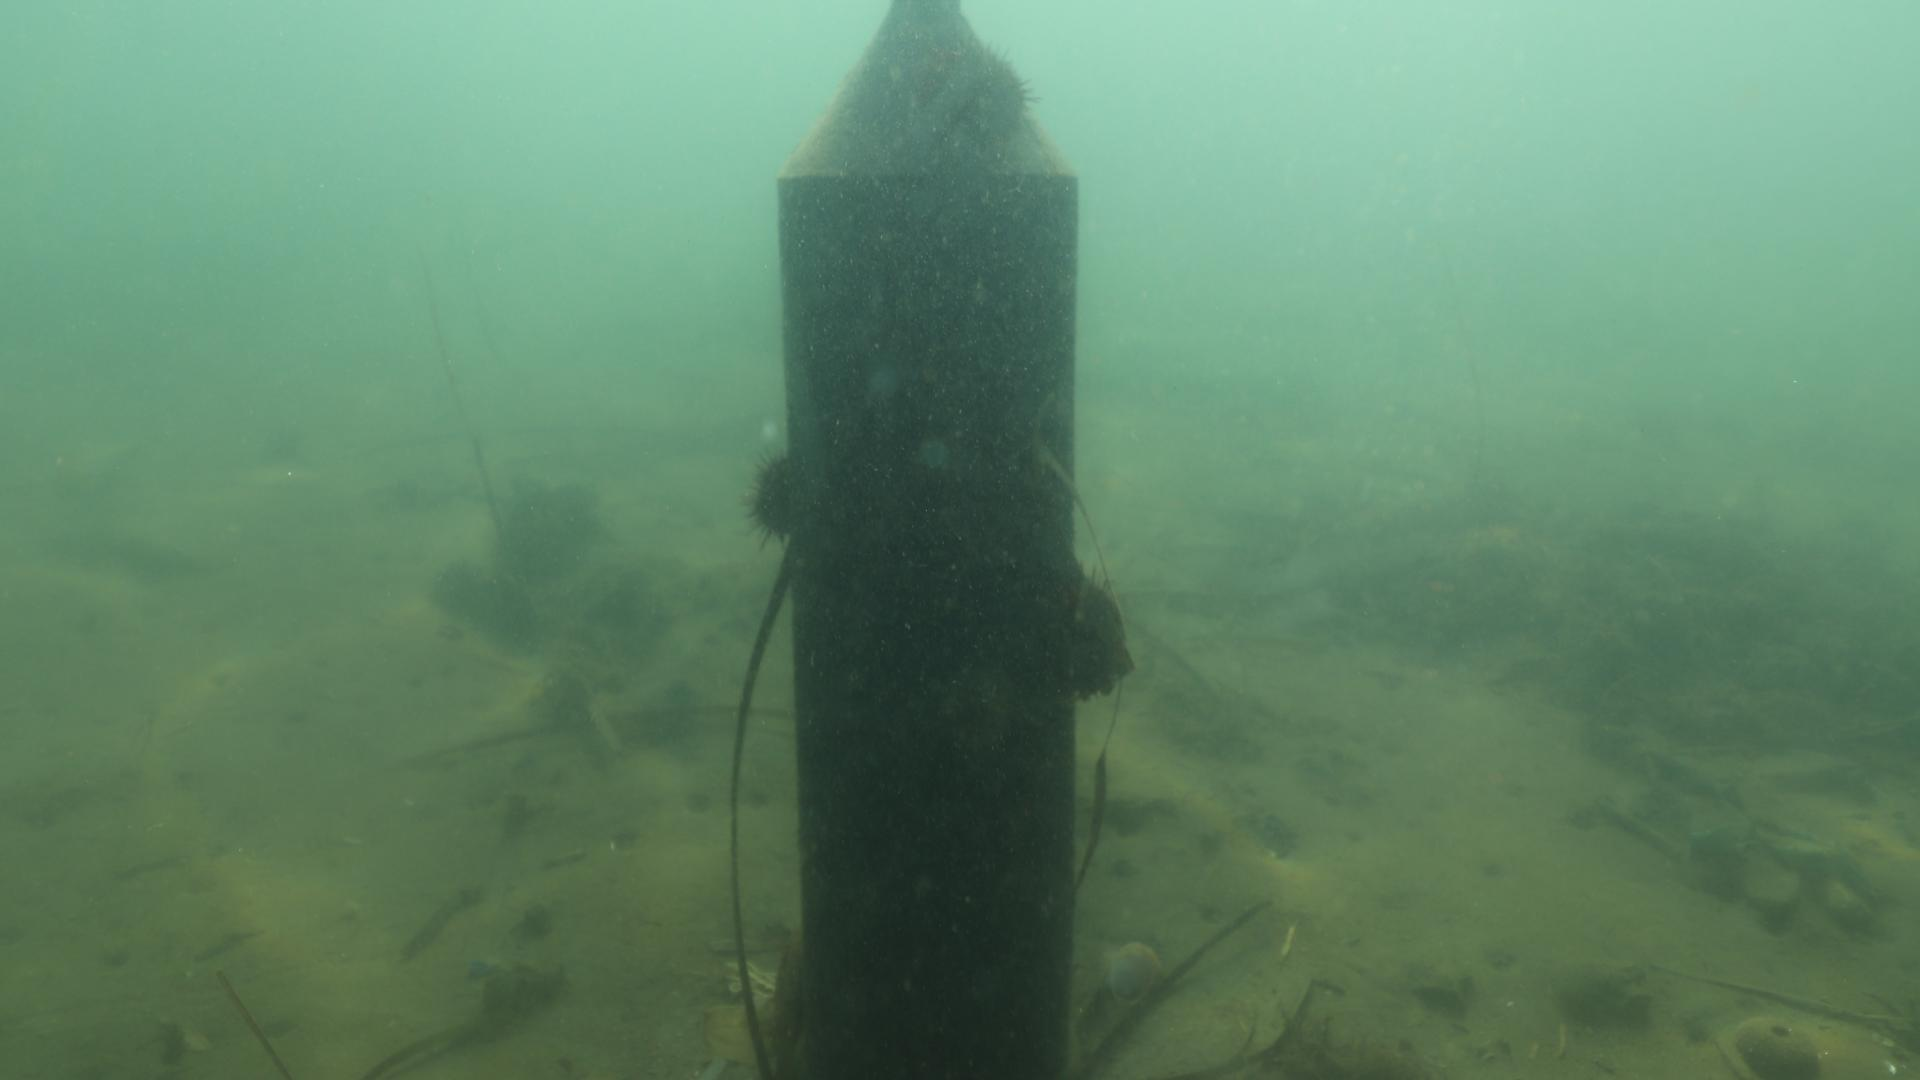eel fish trap: (771, 3, 1083, 1080)
